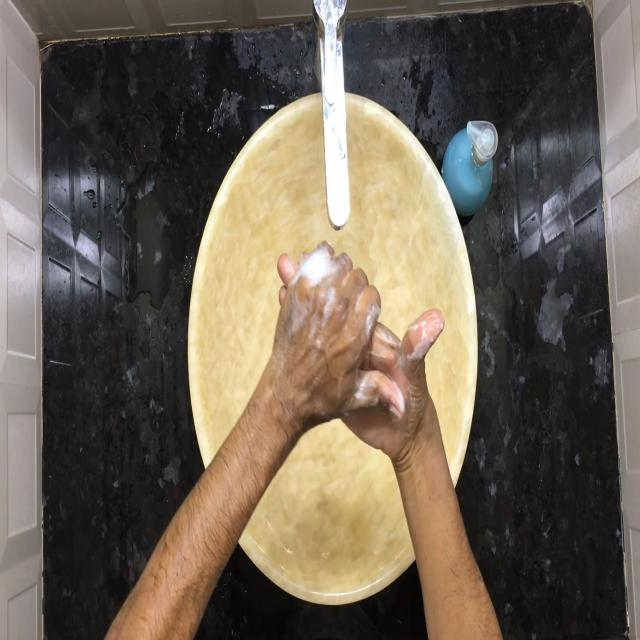step_5: (260, 225, 448, 468)
